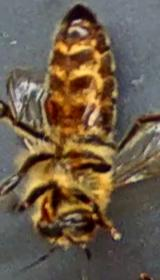varroa_mite: (39, 94, 64, 128)
